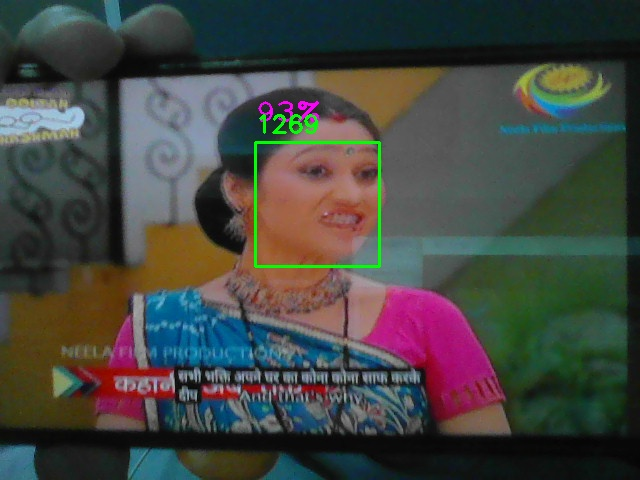fake: (255, 142, 380, 267)
